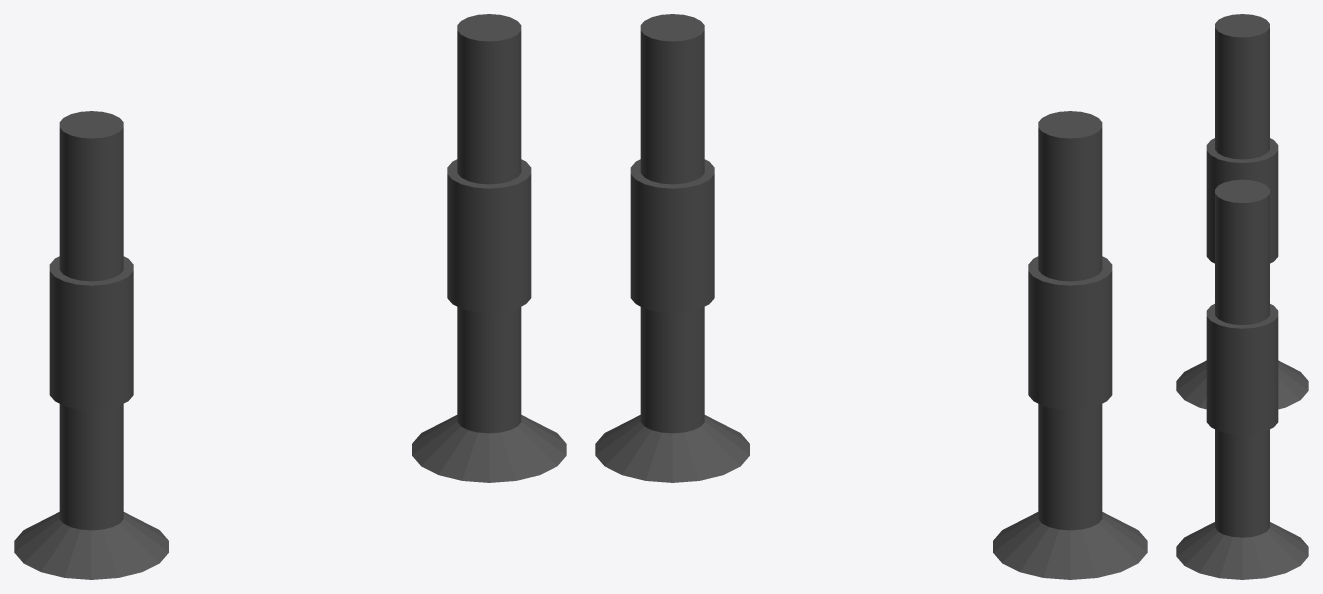
The model's file is Stand.fbx.
3 views of the same model, side by side, from view 1: azimuth 30°, elevation 25°; view 2: azimuth 150°, elevation 25°; view 3: azimuth 270°, elevation 25° (orthographic). The views are drawn at different scales.
Visible parts, largest first — view 1: Cylinder002; view 2: Cylinder002; view 3: Cylinder002.
Part boxes in pixels (x1,y1,x2,y2): Cylinder002: (14, 14, 566, 579); Cylinder002: (595, 14, 1147, 579); Cylinder002: (1176, 14, 1308, 579).
Size of the model in its own units: 1554 by 1174 by 390.
